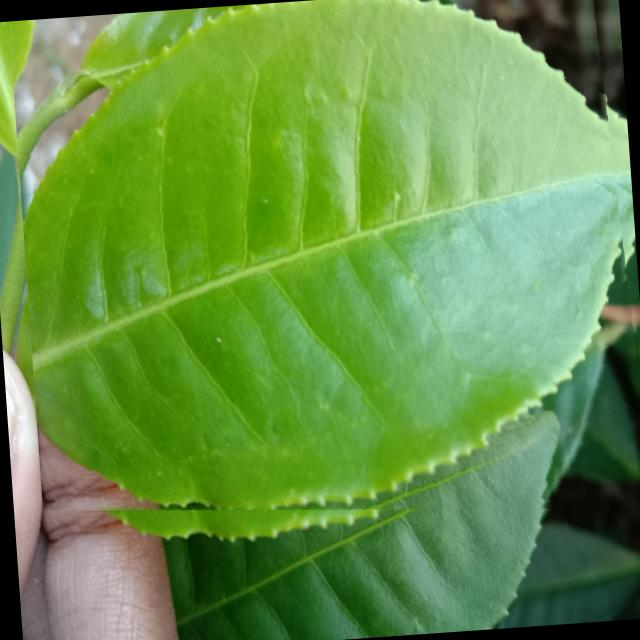Category C 4-7 days: (7, 0, 640, 550)
